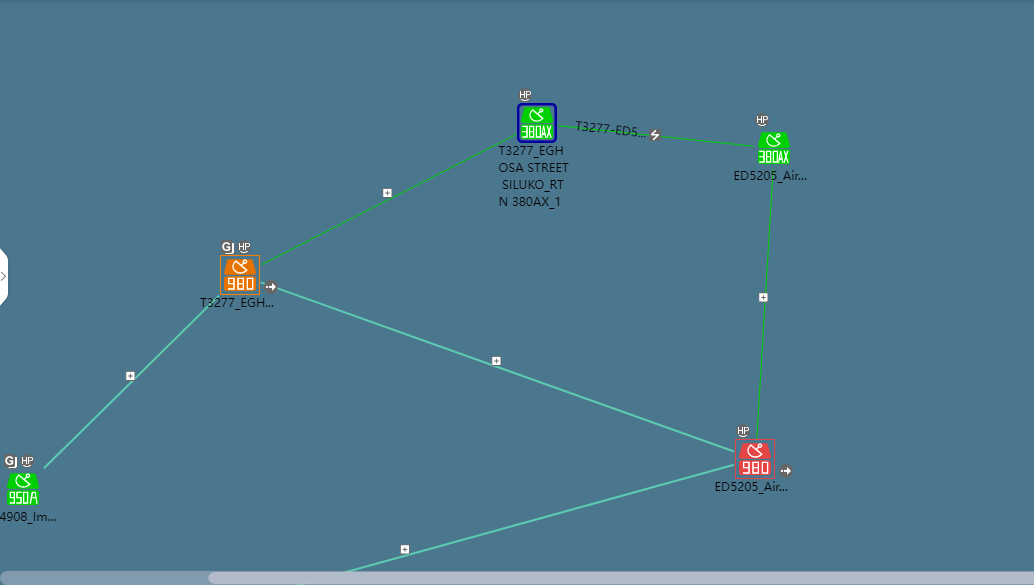Link_Blue: (270, 283, 738, 456), (352, 464, 727, 570), (42, 296, 215, 467)
Link_Green: (262, 134, 511, 265), (753, 173, 776, 443), (559, 121, 754, 152)
RTN_Green: (520, 102, 557, 145), (10, 477, 40, 506), (759, 134, 788, 163)
RTN_Orange: (223, 257, 260, 294)
RTN_Red: (733, 438, 777, 482)
